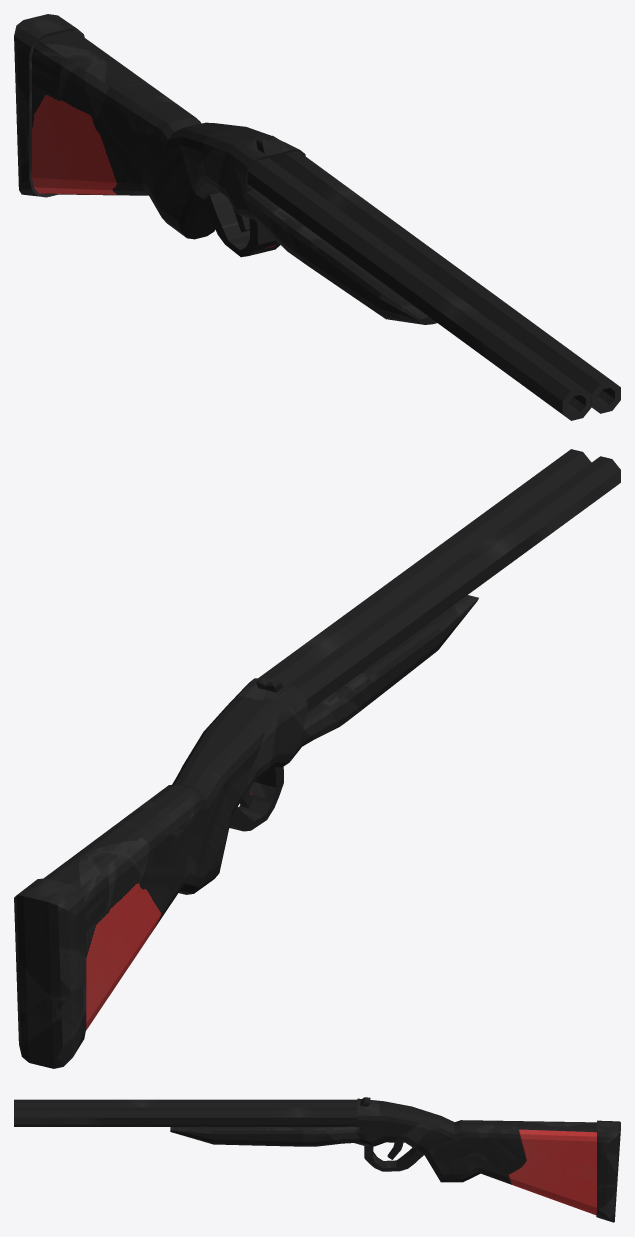
File: Shotgun.fbx
3 renders of one model, top to bottom at view 1: azimuth 30°, elevation 25°; view 2: azimuth 150°, elevation 25°; view 3: azimuth 270°, elevation 25°, orthographic. The views are drawn at different scales.
Visible parts, largest first — view 1: Cube.016; view 2: Cube.016; view 3: Cube.016.
Part boxes in pixels (x1=…): Cube.016: x1=14, y1=14, x2=620, y2=420; Cube.016: x1=14, y1=449, x2=620, y2=1068; Cube.016: x1=14, y1=1097, x2=620, y2=1222.
Size of the model in its own units: 28.75 by 98.68 by 454.
